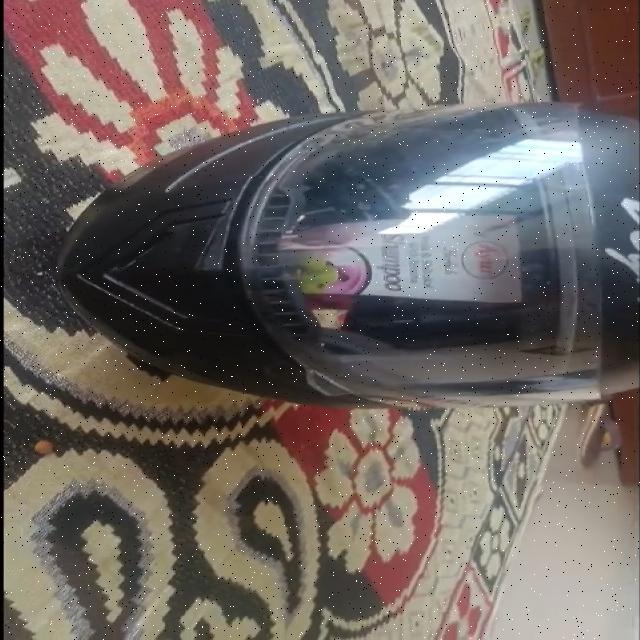Helmet: (49, 101, 640, 410)
